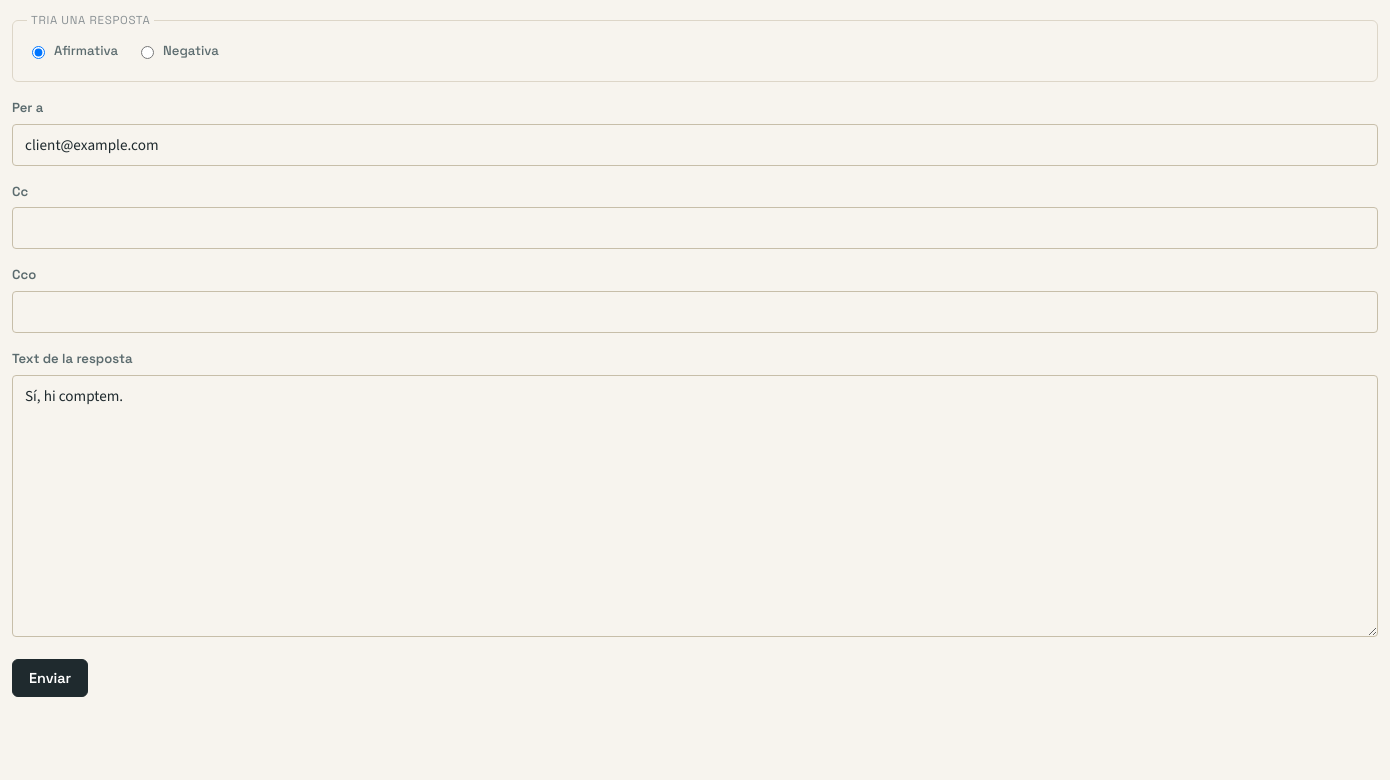
Test: DraftOptionsForm › els suggeriments de contactes › posa el contacte triat després de les adreces que ja hi havia
This screenshot has width=1390, height=780.
Type "primer@example.com, cop" into the field labelled "Cc". click: (695, 228)
box: [12,207,1378,249]
Wait 200 ms
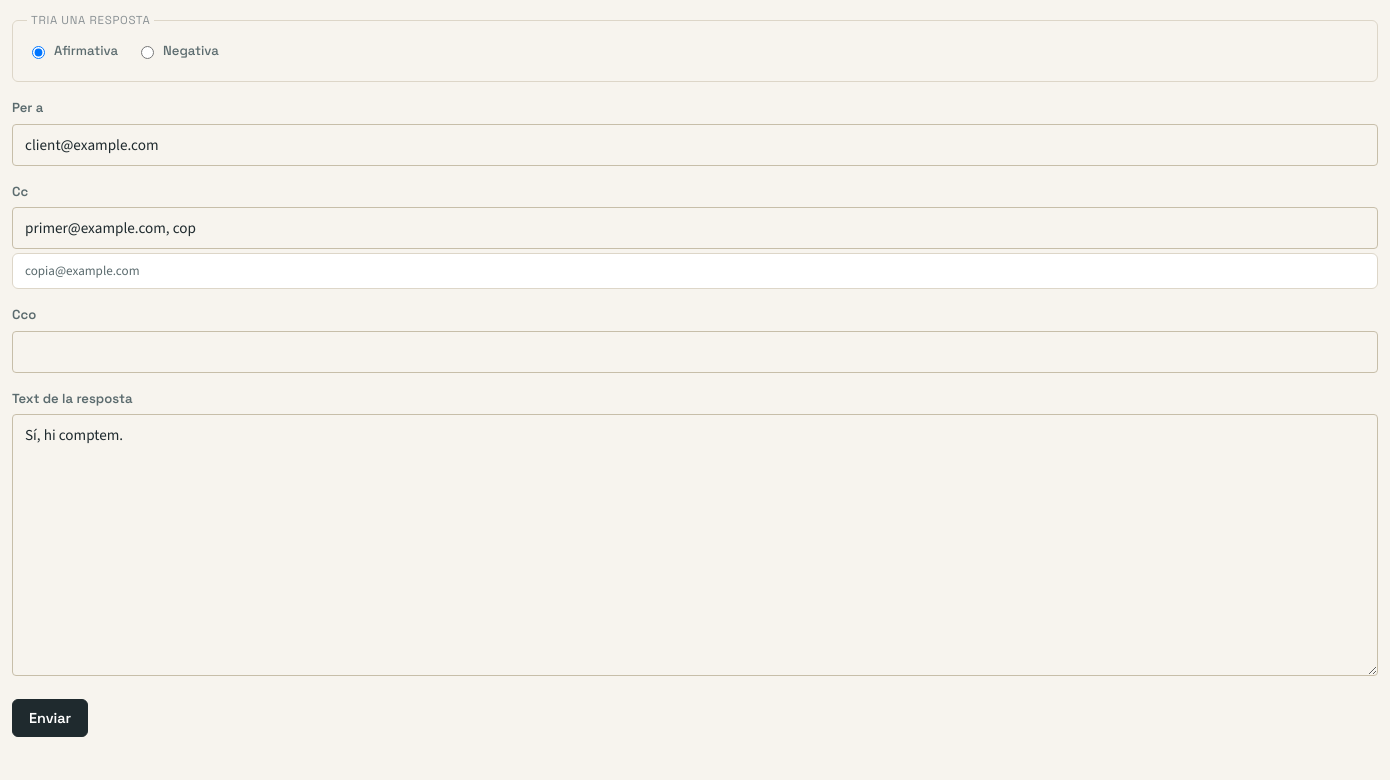
Click the button "copia@example.com". click: (82, 271)
box: [17,258,148,284]
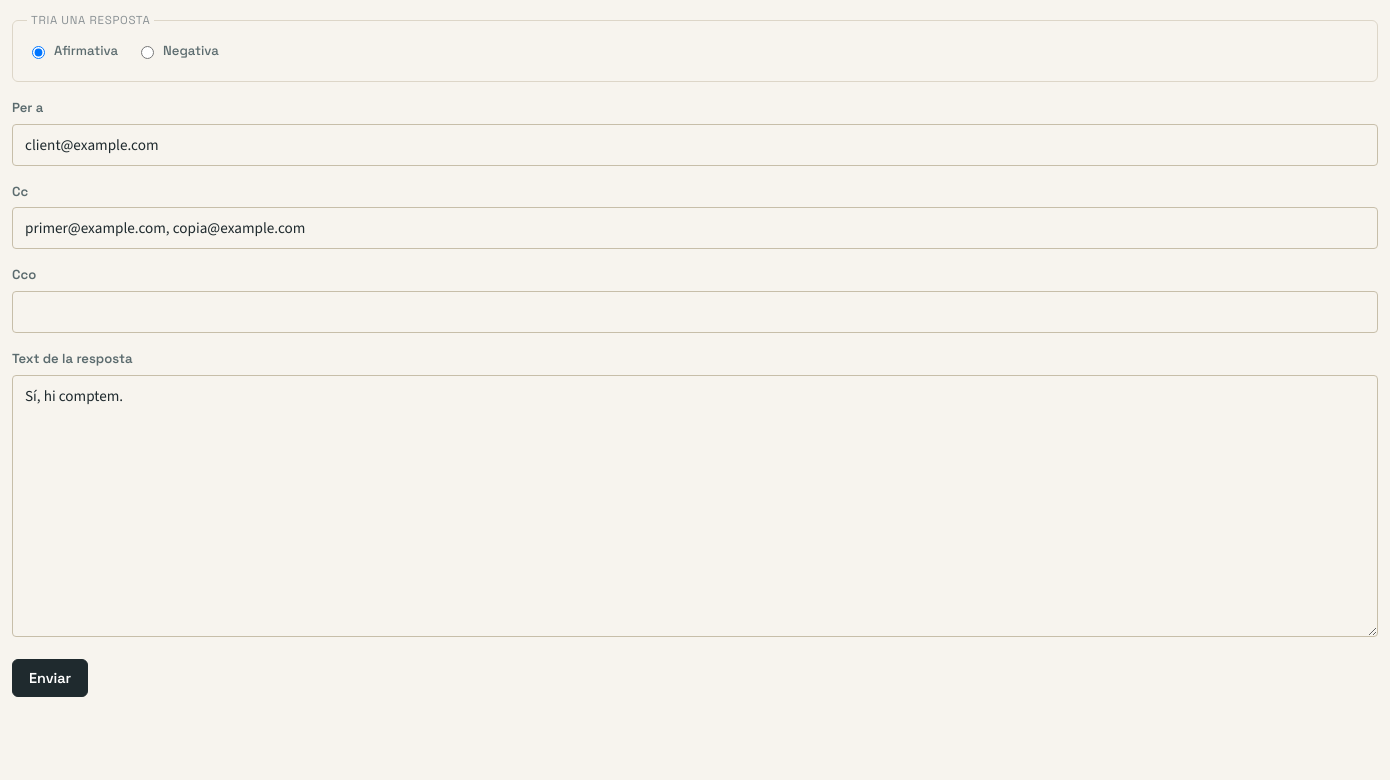
Expected: the field labelled "Cc" holds "primer@example.com, copia@example.com", [12,207,1378,249]
